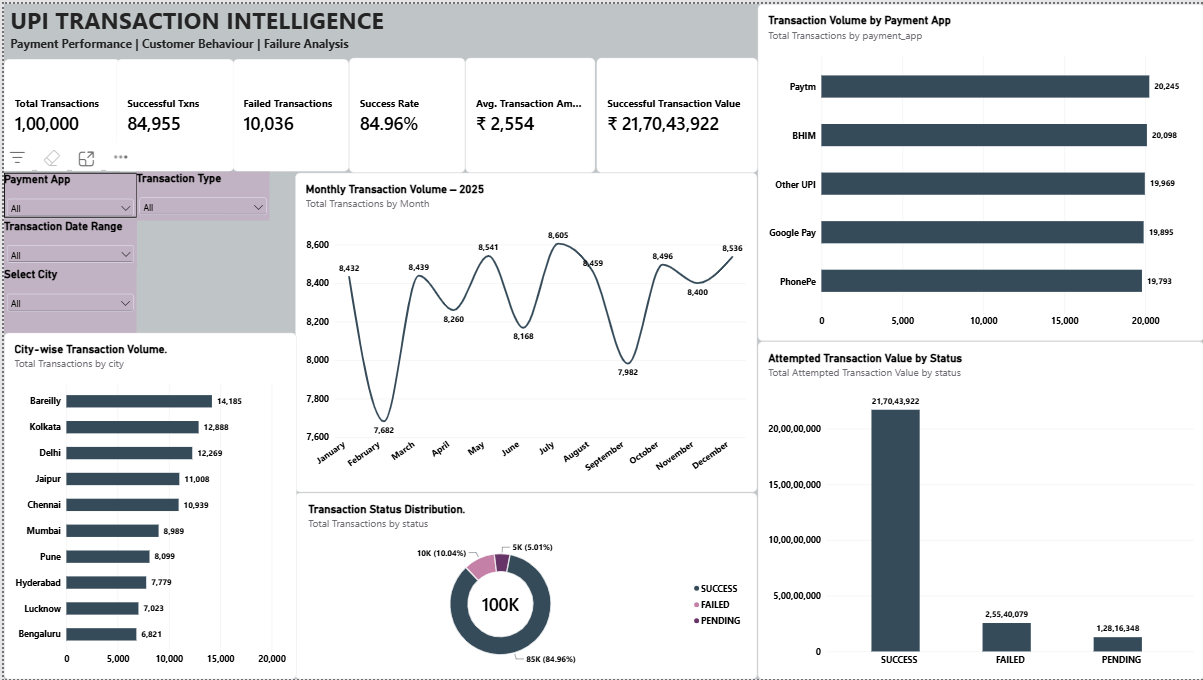

Layout of this report page (visuals, bound fields, positions):
{"tool":"powerbi","page":{"name":"Executive Overview","canvas":[1920,1080],"ordinal":0},"visuals":[{"type":"textbox","box":[10.9,0,622.5,114],"z":0},{"type":"cardVisual","fields":{"Data":["upi_transactions.Total Transactions"]},"box":[0,88.7,186,178],"z":1000},{"type":"cardVisual","title":"Successful Txns","fields":{"Data":["upi_transactions.Successful Transactions"]},"box":[180,87.7,188,180],"z":2000},{"type":"cardVisual","fields":{"Data":["upi_transactions.Failed Transactions"]},"box":[366,87.7,186,180],"z":3000},{"type":"cardVisual","fields":{"Data":["upi_transactions.Success Rate"]},"box":[552,85.7,186,184],"z":4000},{"type":"cardVisual","fields":{"Data":["upi_transactions.Successful Transaction Value"]},"box":[947.9,85.7,258,184],"z":5000},{"type":"cardVisual","fields":{"Data":["upi_transactions.Average Transaction Amount"]},"box":[738.9,85.4,209,184.7],"z":6000},{"type":"lineChart","title":"Monthly Transaction Volume – 2025","fields":{"Category":["upi_transactions.transaction_date.Variation.Date Hierarchy.Month"],"Y":["upi_transactions.Total Transactions"]},"box":[466.5,270.6,738.9,511.3],"z":7000},{"type":"donutChart","title":"Transaction Status Distribution.","fields":{"Category":["upi_transactions.status"],"Y":["upi_transactions.Total Transactions"]},"box":[466.5,781.8,738.9,298.6],"z":8000},{"type":"clusteredBarChart","title":"Transaction Volume by Payment App","fields":{"Category":["upi_transactions.payment_app"],"Y":["upi_transactions.Total Transactions"]},"box":[1205.4,0,714.7,539.3],"z":9000},{"type":"clusteredColumnChart","title":"Attempted Transaction Value by Status","fields":{"Category":["upi_transactions.status"],"Y":["upi_transactions.Total Attempted Transaction Value"]},"box":[1205.4,539.3,714.7,541.1],"z":10000},{"type":"clusteredBarChart","title":"City-wise Transaction Volume.","fields":{"Category":["upi_transactions.city"],"Y":["upi_transactions.Total Transactions"]},"box":[0,526.2,468.4,554.2],"z":11000},{"type":"slicer","title":"Payment App","fields":{"Values":["upi_transactions.payment_app"]},"box":[0,270,212.5,72.5],"z":11001},{"type":"slicer","title":"Transaction Date Range","fields":{"Values":["upi_transactions.transaction_date"]},"box":[0,343.3,212.7,78.4],"z":11002},{"type":"slicer","title":"Select City","fields":{"Values":["upi_transactions.city"]},"box":[0,422,212,104],"z":11003},{"type":"slicer","title":"Transaction Type","fields":{"Values":["upi_transactions.transaction_type"]},"box":[212,268,212.7,78.4],"z":11004}]}

Visuals, with their boxes in screenshot pixels (x1, y1, x2, y2), scaled from the page's 1920x1080 canvas onto the 1203x680 screenshot:
textbox: {"left": 7, "top": 0, "right": 397, "bottom": 72}
cardVisual - upi_transactions.Total Transactions: {"left": 0, "top": 56, "right": 117, "bottom": 168}
"Successful Txns" cardVisual: {"left": 113, "top": 55, "right": 231, "bottom": 169}
cardVisual - upi_transactions.Failed Transactions: {"left": 229, "top": 55, "right": 346, "bottom": 169}
cardVisual - upi_transactions.Success Rate: {"left": 346, "top": 54, "right": 462, "bottom": 170}
cardVisual - upi_transactions.Successful Transaction Value: {"left": 594, "top": 54, "right": 756, "bottom": 170}
cardVisual - upi_transactions.Average Transaction Amount: {"left": 463, "top": 54, "right": 594, "bottom": 170}
"Monthly Transaction Volume – 2025" lineChart: {"left": 292, "top": 170, "right": 755, "bottom": 492}
"Transaction Status Distribution." donutChart: {"left": 292, "top": 492, "right": 755, "bottom": 679}
"Transaction Volume by Payment App" clusteredBarChart: {"left": 755, "top": 0, "right": 1202, "bottom": 340}
"Attempted Transaction Value by Status" clusteredColumnChart: {"left": 755, "top": 340, "right": 1202, "bottom": 679}
"City-wise Transaction Volume." clusteredBarChart: {"left": 0, "top": 331, "right": 293, "bottom": 679}
"Payment App" slicer: {"left": 0, "top": 170, "right": 133, "bottom": 216}
"Transaction Date Range" slicer: {"left": 0, "top": 216, "right": 133, "bottom": 266}
"Select City" slicer: {"left": 0, "top": 266, "right": 133, "bottom": 331}
"Transaction Type" slicer: {"left": 133, "top": 169, "right": 266, "bottom": 218}
